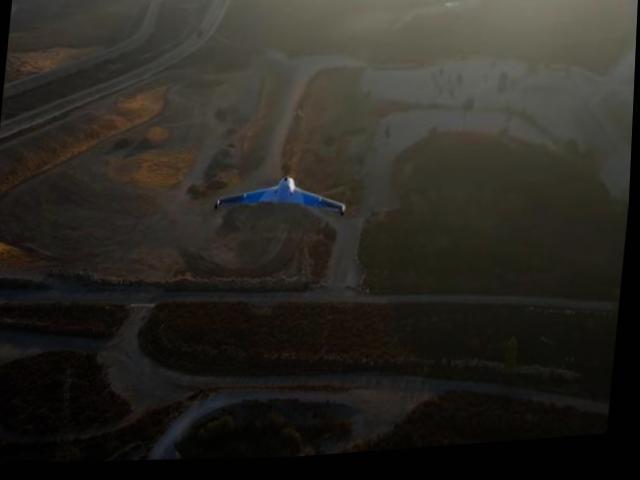iha: (216, 168, 347, 229)
